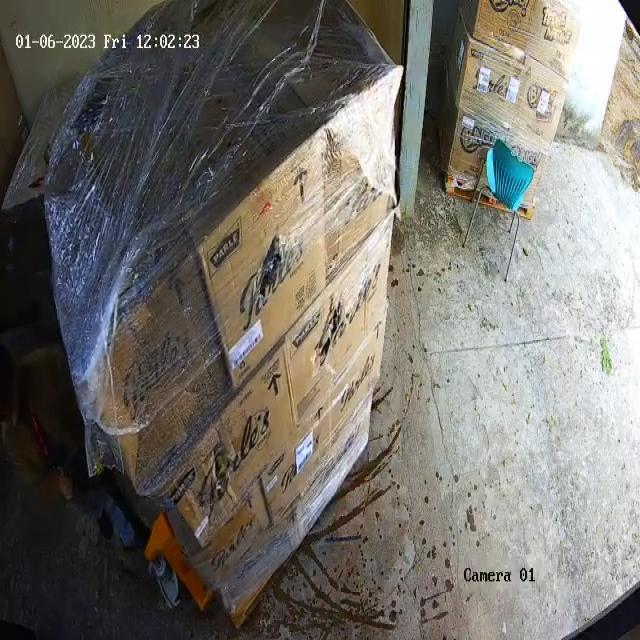leakage: (178, 435, 247, 540), (250, 234, 290, 317), (322, 286, 358, 365)
squeeze: (90, 257, 153, 471), (342, 67, 402, 198)
